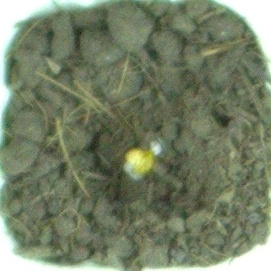chilli seed: (124, 147, 154, 176)
